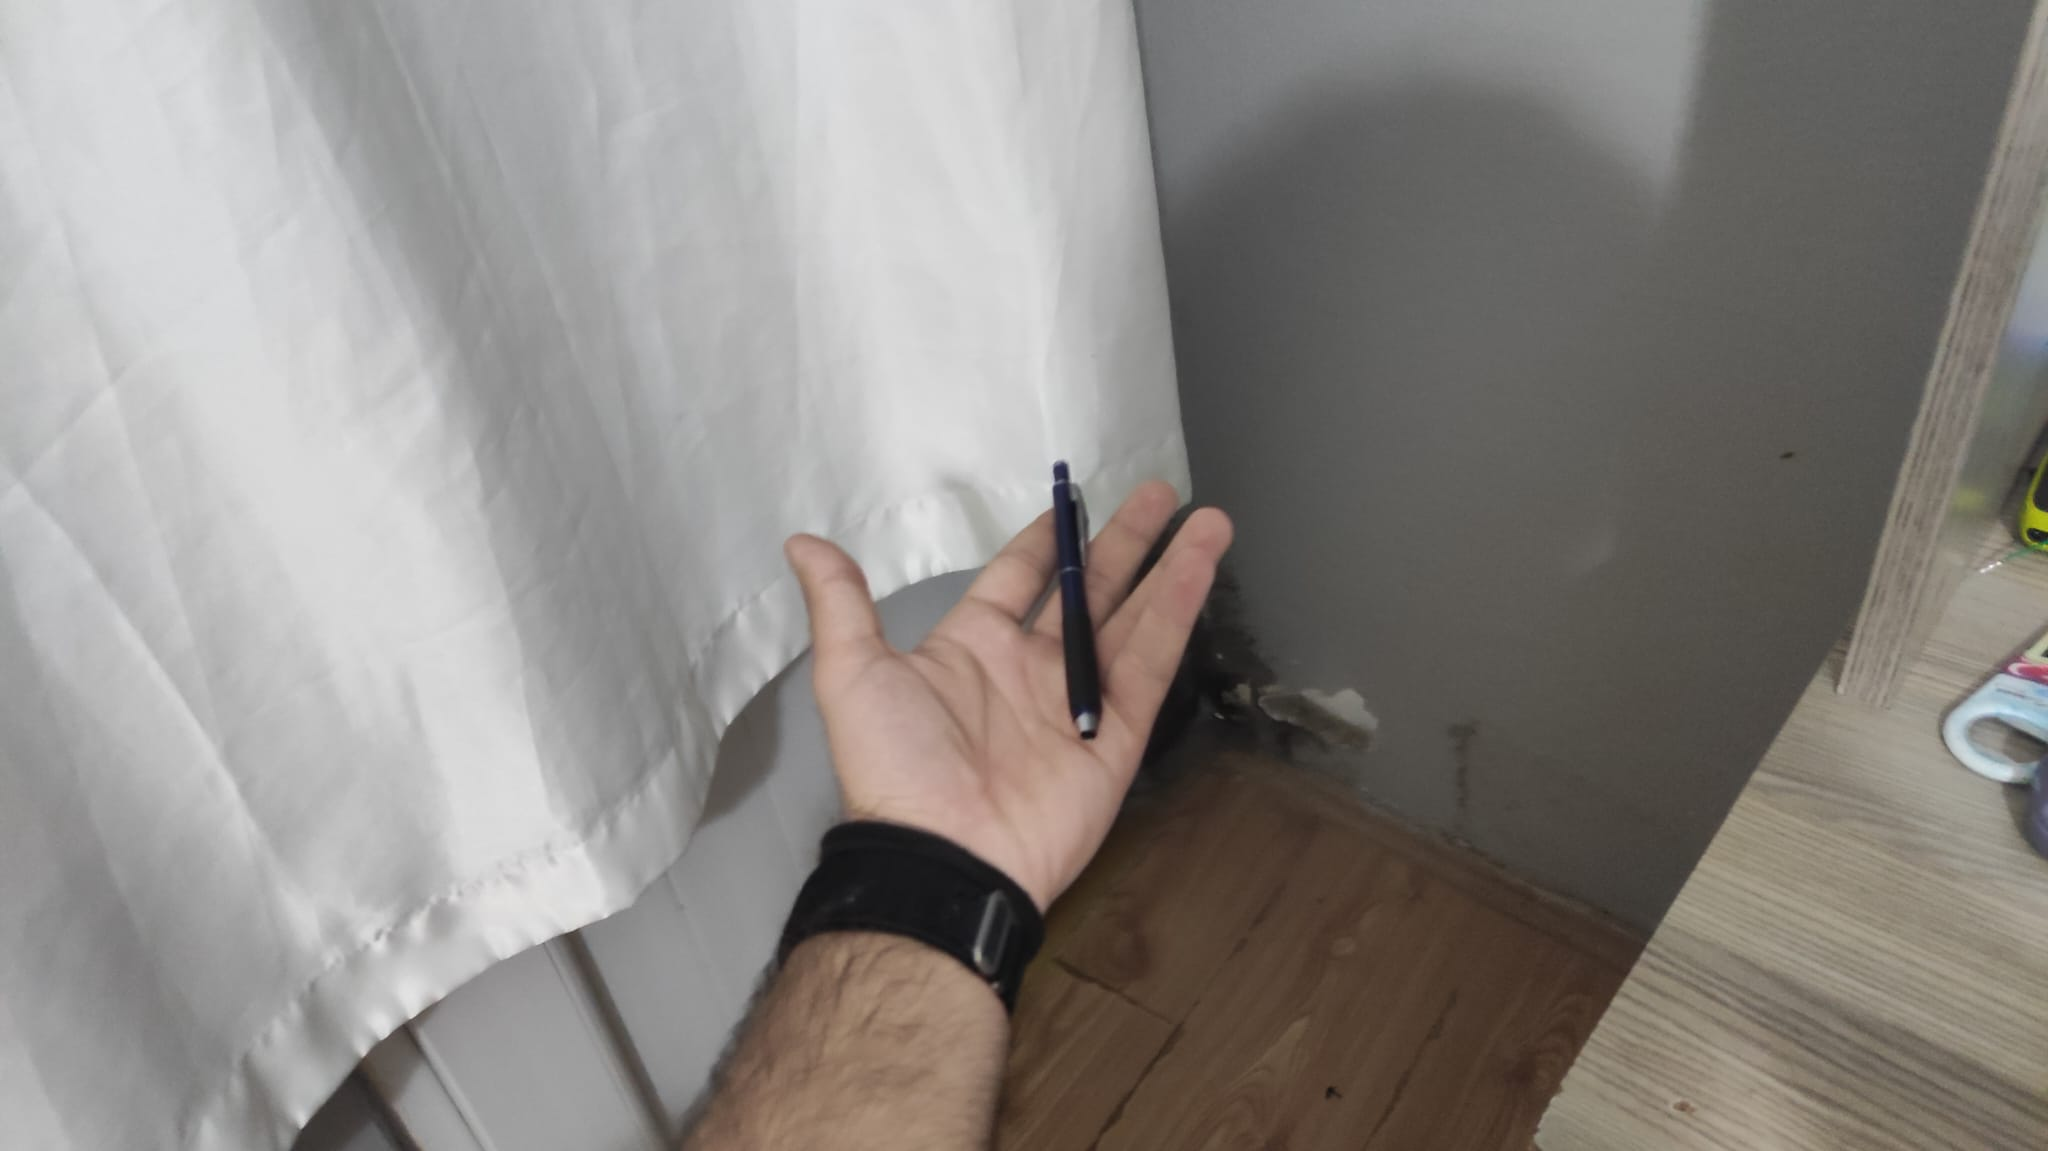kalem: (1047, 459, 1104, 740)
